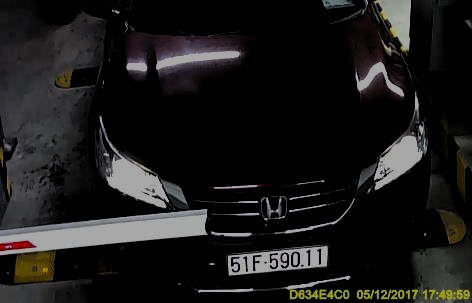plate: (225, 243, 329, 279)
